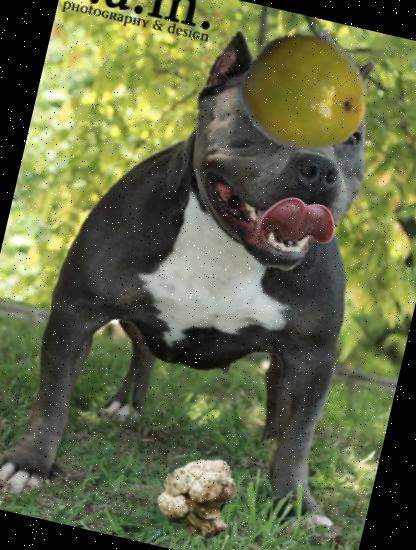Cauliflower: (150, 448, 253, 550)
Maracuja: (227, 13, 379, 165)
